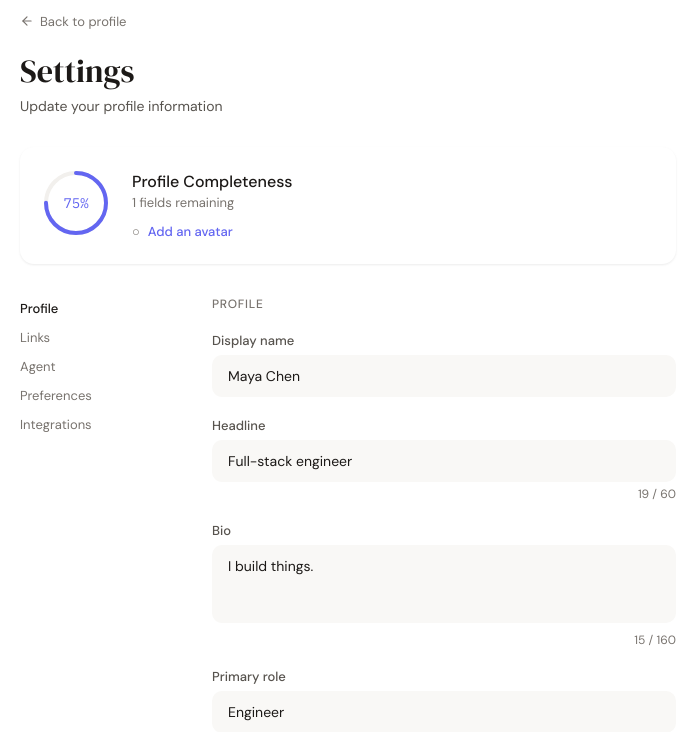
Test: SettingsPage › Links section › removes a row with the remove button
Click the button "Links": (100, 337) [20, 325, 180, 350]
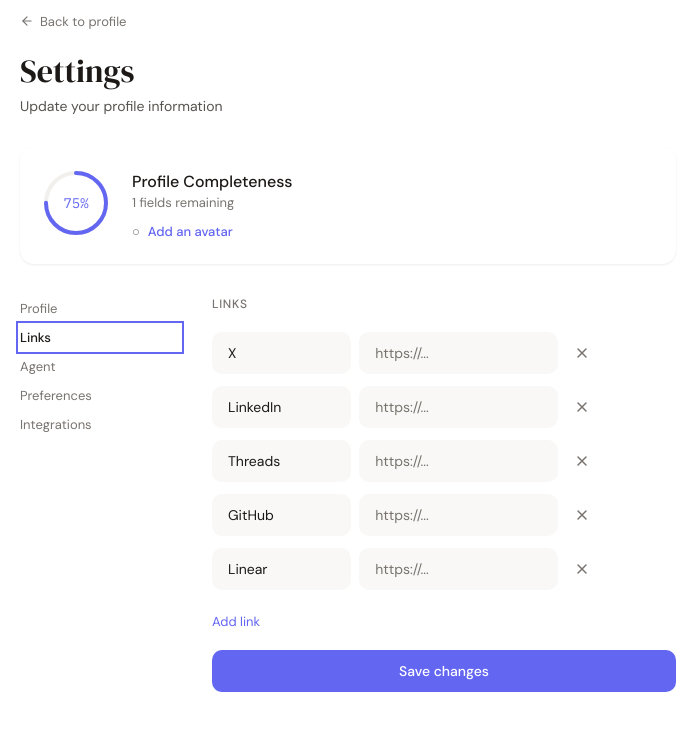
Now the number of fields named "Link 1 label" is 5, box [212, 332, 351, 374]; [212, 386, 351, 428]; [212, 440, 351, 482]; [212, 494, 351, 536]; [212, 548, 351, 590]
Click the button named "Remove link 1": (582, 353) [566, 337, 598, 369]
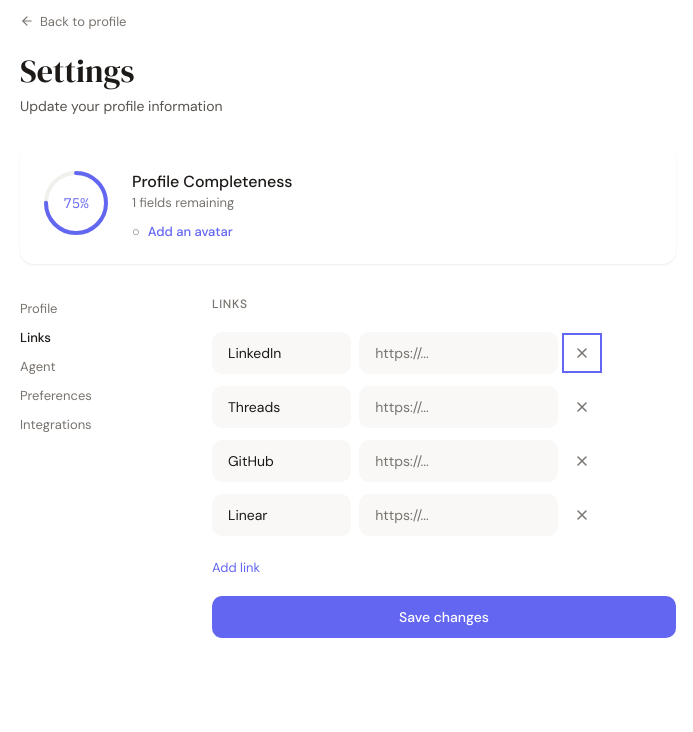
Now the number of fields named "Link 1 label" is 4, box [212, 332, 351, 374]; [212, 386, 351, 428]; [212, 440, 351, 482]; [212, 494, 351, 536]
Now the field named "Link 1 label" holds "LinkedIn", box [212, 332, 351, 374]
